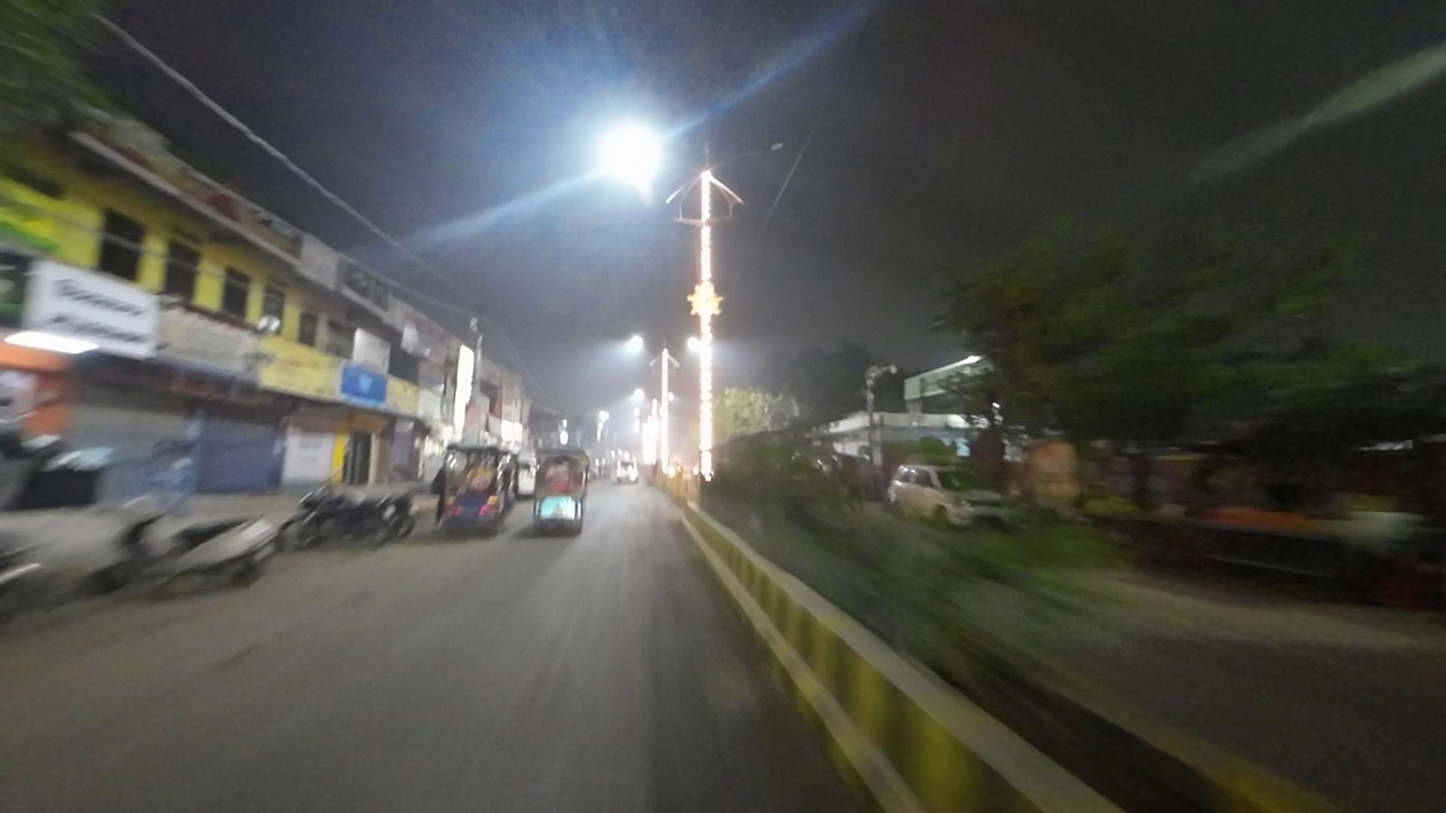streetlight: (714, 139, 785, 164)
